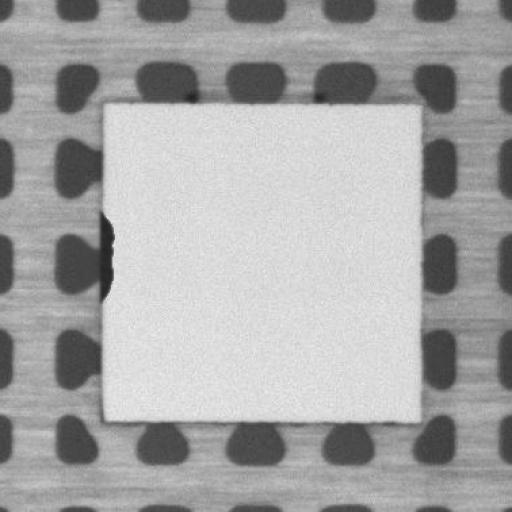DIE_BROKEN: (95, 210, 116, 307)
